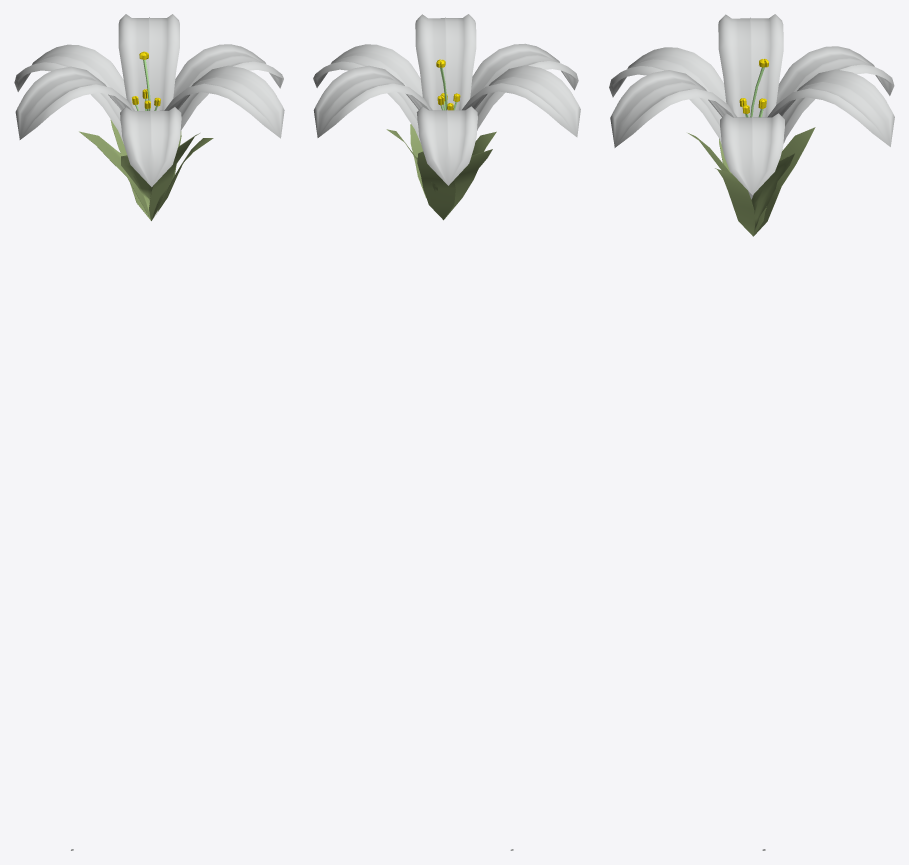
File: lilly_solo.fbx
The picture shows the model from 3 angles, left to right: view 1: azimuth 30°, elevation 25°; view 2: azimuth 150°, elevation 25°; view 3: azimuth 270°, elevation 25°; orthographic projection. The views are drawn at different scales.
Visible parts, largest first — view 1: pPlane11, pasted__pCube25, pasted__pCube23; view 2: pPlane11, pasted__pasted__pCube23, pasted__pCube25; view 3: pPlane11, pasted__pasted__pCube25, pasted__pasted__pCube23, pasted__pCube24.
Boxes of the visible parts, x1,y1,x2,y2 form: pPlane11: (14, 14, 284, 850); pasted__pCube25: (79, 131, 151, 220); pasted__pCube23: (149, 133, 199, 220); pPlane11: (313, 14, 580, 850); pasted__pasted__pCube23: (417, 151, 455, 219); pasted__pCube25: (445, 149, 492, 218); pPlane11: (609, 14, 894, 850); pasted__pasted__pCube25: (715, 168, 754, 236); pasted__pasted__pCube23: (754, 127, 815, 235); pasted__pCube24: (751, 153, 795, 235).
Size of the model in its own units: 1.1 by 3.15 by 0.9851.
